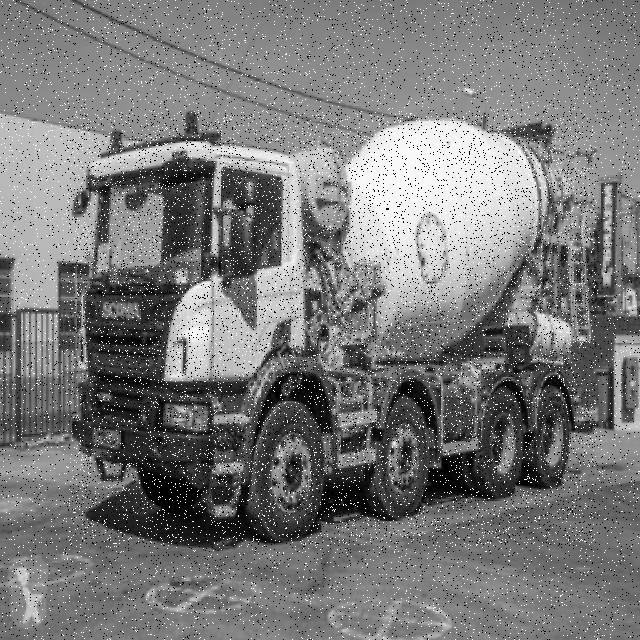Concrete Mixer: (67, 113, 596, 545)
